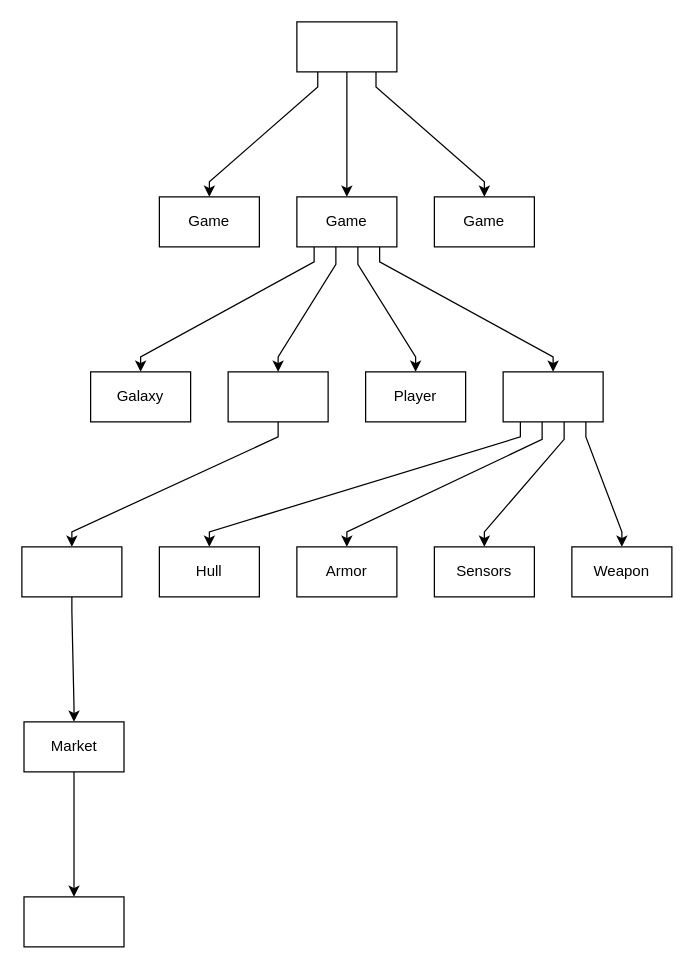
This 694x969 diagram has some shape labels left out. The box of each missing label's shape, as (x1, y1, x2, y2) in pixels:
Good: (23, 896, 124, 947)
Planet: (21, 546, 122, 597)
Server: (296, 21, 397, 72)
Ship: (502, 371, 603, 422)
System: (227, 371, 328, 422)
